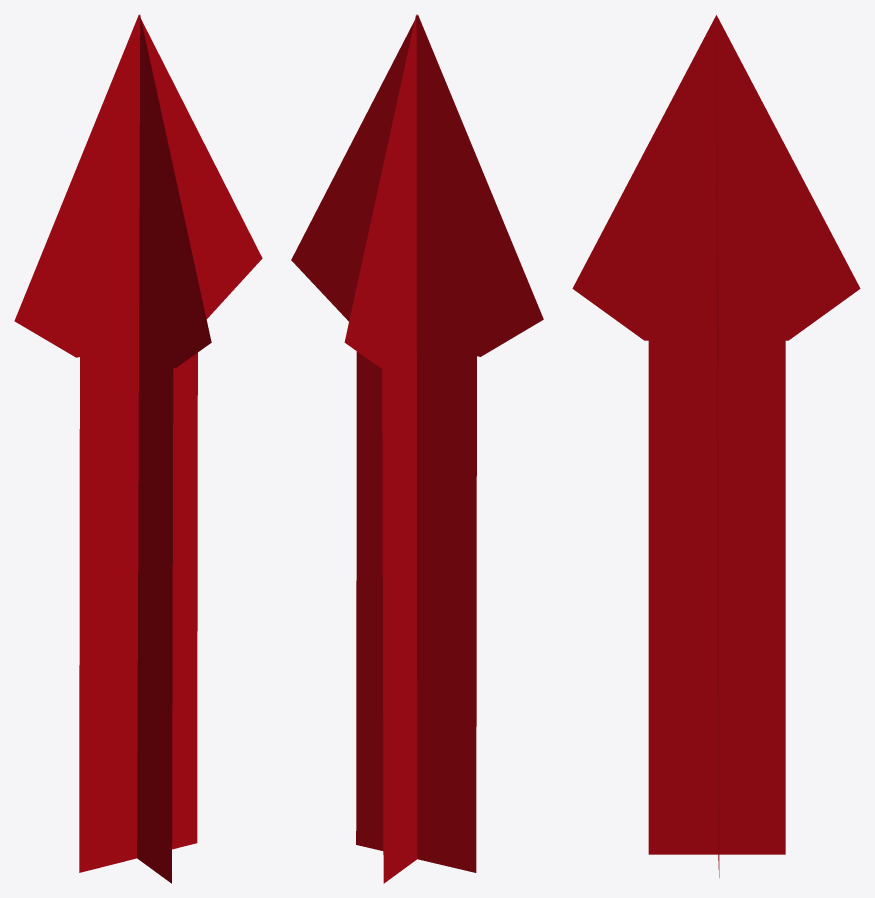
The model's file is dim2arrow.dae.
The picture shows the model from 3 angles, left to right: view 1: azimuth 30°, elevation 25°; view 2: azimuth 150°, elevation 25°; view 3: azimuth 270°, elevation 25°; orthographic projection.
Visible parts, largest first — view 1: Plane_001, Plane; view 2: Plane_001, Plane; view 3: Plane, Plane_001.
Boxes of the visible parts, <box> form: Plane_001: <box>14,15,262,872</box>; Plane: <box>137,14,211,883</box>; Plane_001: <box>291,14,543,872</box>; Plane: <box>344,14,417,883</box>; Plane: <box>572,15,860,854</box>; Plane_001: <box>716,36,719,877</box>.
Bounding box in the file's own units: 1.33 × 1.33 × 4.29.
